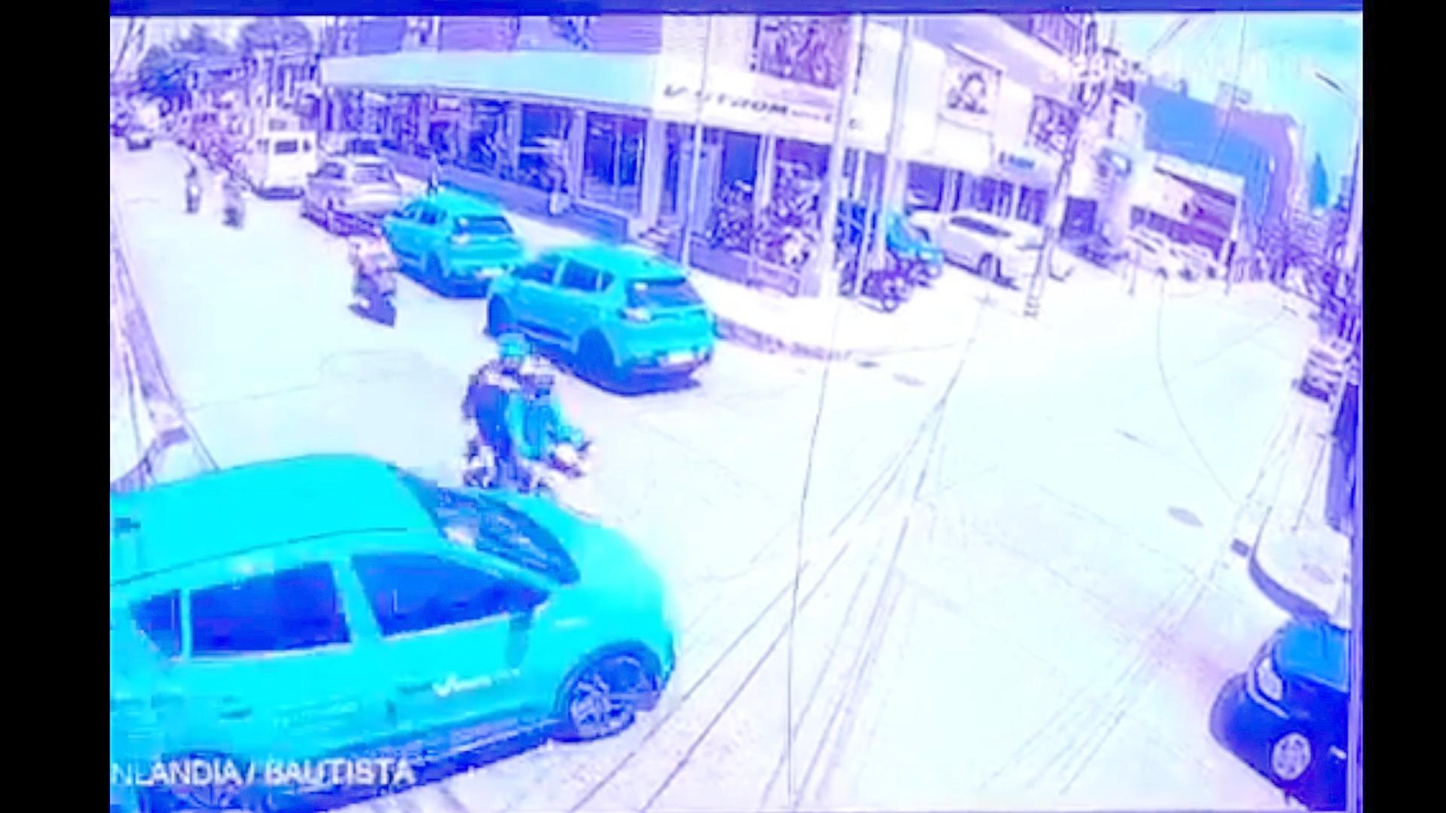Car: (107, 456, 671, 779), (485, 240, 715, 393), (1210, 602, 1353, 808), (381, 192, 529, 297), (924, 201, 1058, 275), (832, 196, 942, 284), (303, 154, 408, 229), (1122, 229, 1212, 281), (240, 129, 308, 189), (1297, 332, 1354, 401), (323, 132, 391, 166), (113, 111, 155, 151)
Motor: (460, 339, 597, 518), (342, 230, 406, 327), (847, 237, 906, 310), (1079, 230, 1130, 267), (220, 177, 247, 228), (182, 161, 203, 213)
